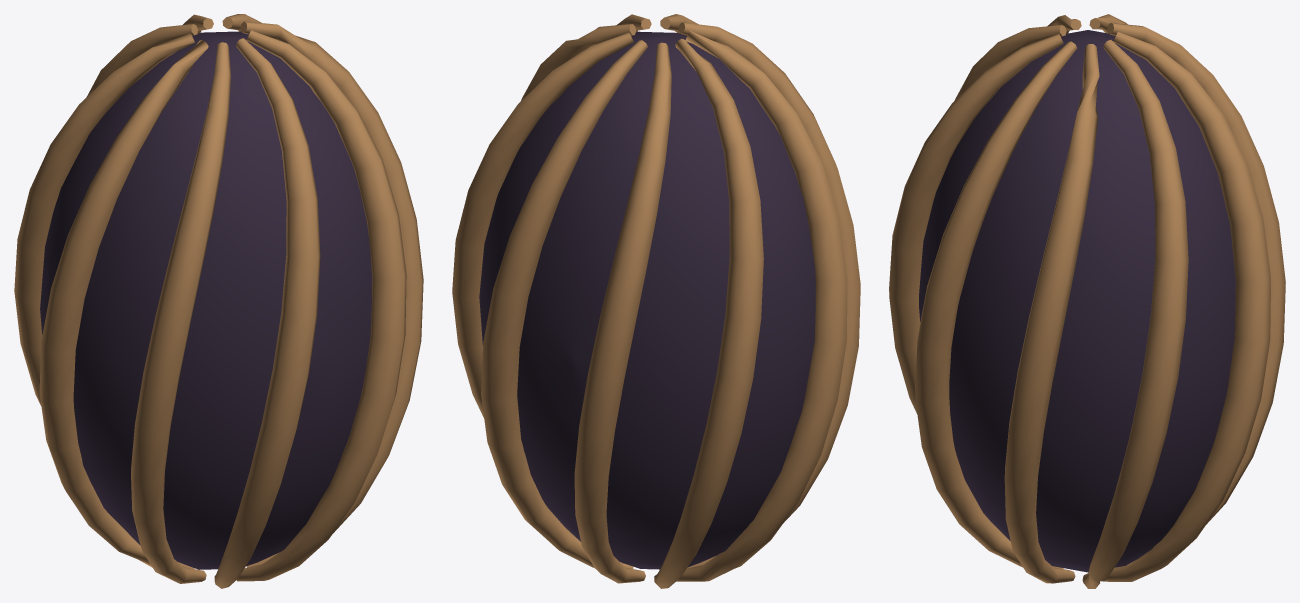
Rendered from egg_1.glb.
3 renders of one model, left to right at view 1: azimuth 30°, elevation 25°; view 2: azimuth 150°, elevation 25°; view 3: azimuth 270°, elevation 25°, orthographic.
Visible parts, largest first — view 1: egg_1; view 2: egg_1; view 3: egg_1.
Part boxes in pixels (x1,y1,x2,y2): egg_1: (14,14,423,588); egg_1: (452,14,860,588); egg_1: (889,14,1285,588).
Size of the model in its own units: 1.74 by 2.54 by 1.69.
